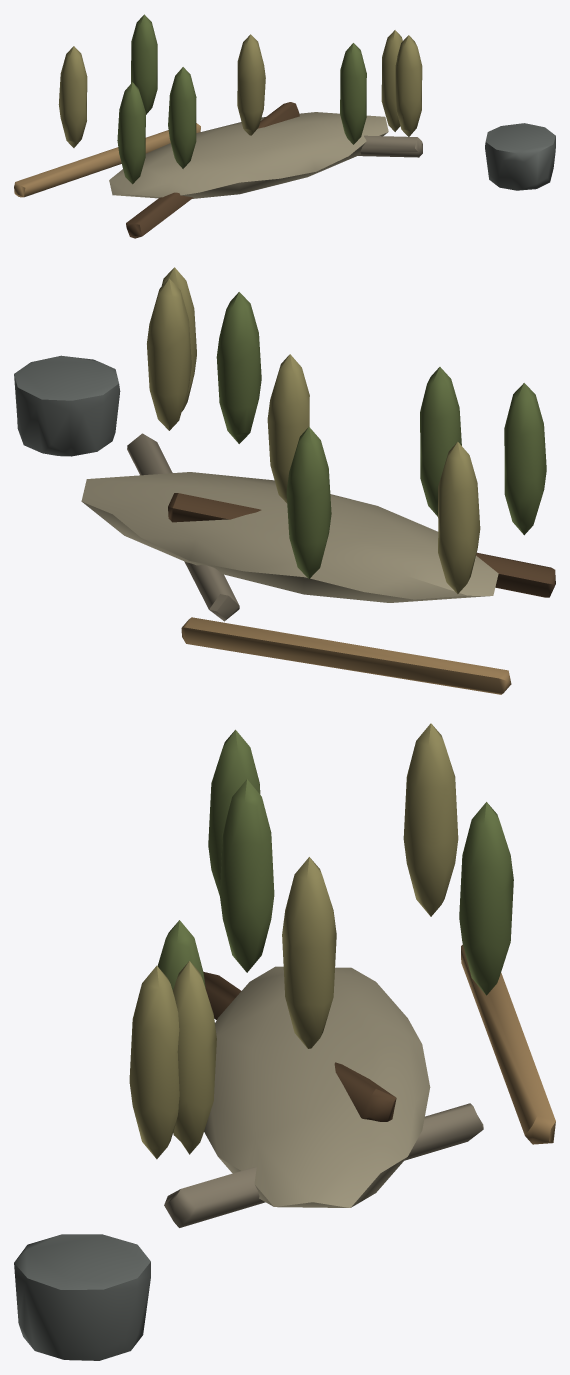
File: fish_rack_c_lod1.glb
The picture shows the model from 3 angles, top to bottom: view 1: azimuth 30°, elevation 25°; view 2: azimuth 150°, elevation 25°; view 3: azimuth 270°, elevation 25°; orthographic projection. The views are drawn at different scales.
Visible parts, largest first — view 1: Surface.001; view 2: Surface.001; view 3: Surface.001.
Part boxes in pixels (left/top/right/bottom): Surface.001: left=14, top=14, right=555, bottom=238; Surface.001: left=14, top=267, right=555, bottom=694; Surface.001: left=14, top=723, right=555, bottom=1360.
Size of the model in its own units: 4.1 by 1.39 by 2.35.
